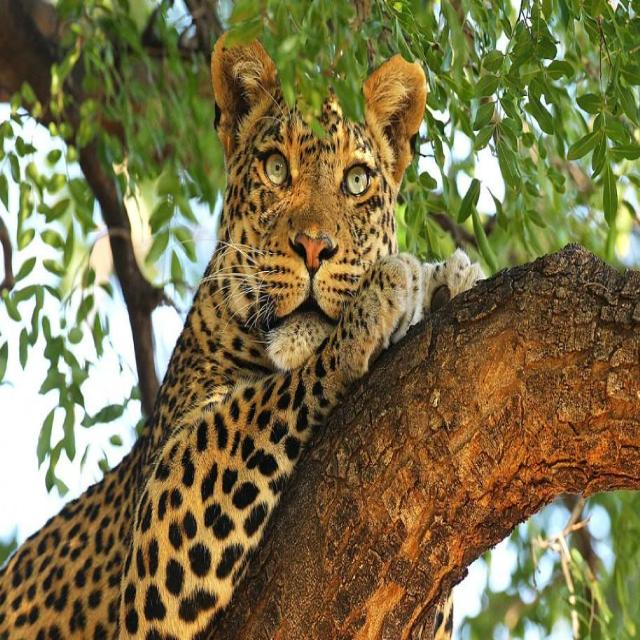Leopard: (4, 30, 478, 640)
